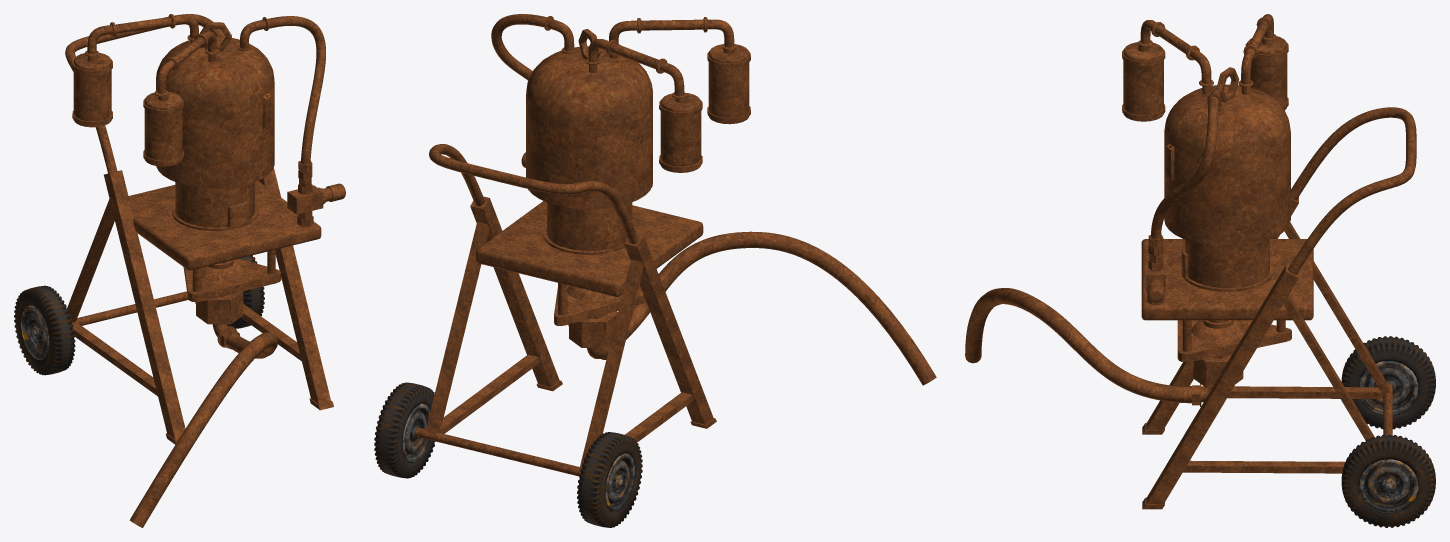
File: Spray paint machine.fbx
3 views of the same model, side by side, from view 1: azimuth 30°, elevation 25°; view 2: azimuth 150°, elevation 25°; view 3: azimuth 270°, elevation 25° (orthographic). The views are drawn at different scales.
Visible parts, largest first — view 1: Cube.002, Cylinder.001, Circle.001, Circle; view 2: Cube.002, Cylinder.001, Circle.001, Circle; view 3: Cube.002, Cylinder.001, Circle.001, Circle.
Boxes of the visible parts, x1,y1,x2,y2 form: Cube.002: (65, 14, 345, 527); Cylinder.001: (72, 14, 274, 230); Circle.001: (14, 255, 264, 375); Circle: (21, 305, 49, 360); Cube.002: (415, 14, 936, 476); Cylinder.001: (526, 16, 750, 254); Circle.001: (374, 382, 642, 527); Circle: (402, 403, 635, 511); Cube.002: (965, 96, 1416, 509); Cylinder.001: (1122, 14, 1290, 291); Circle.001: (1341, 336, 1435, 527); Circle: (1359, 360, 1418, 513).
Bounding box in the file's own units: 360 × 431 × 445.
Materials: 4 (4 with a texture image).
